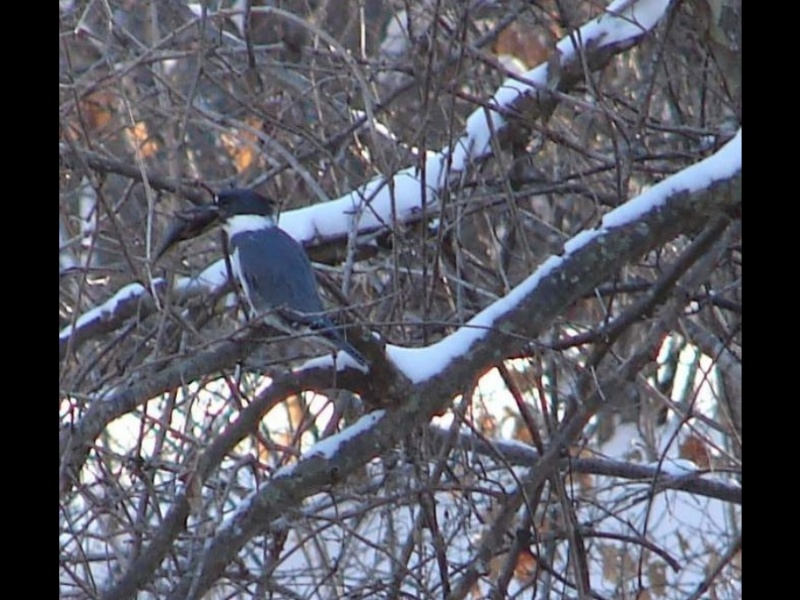kingfisher: (181, 185, 369, 367)
